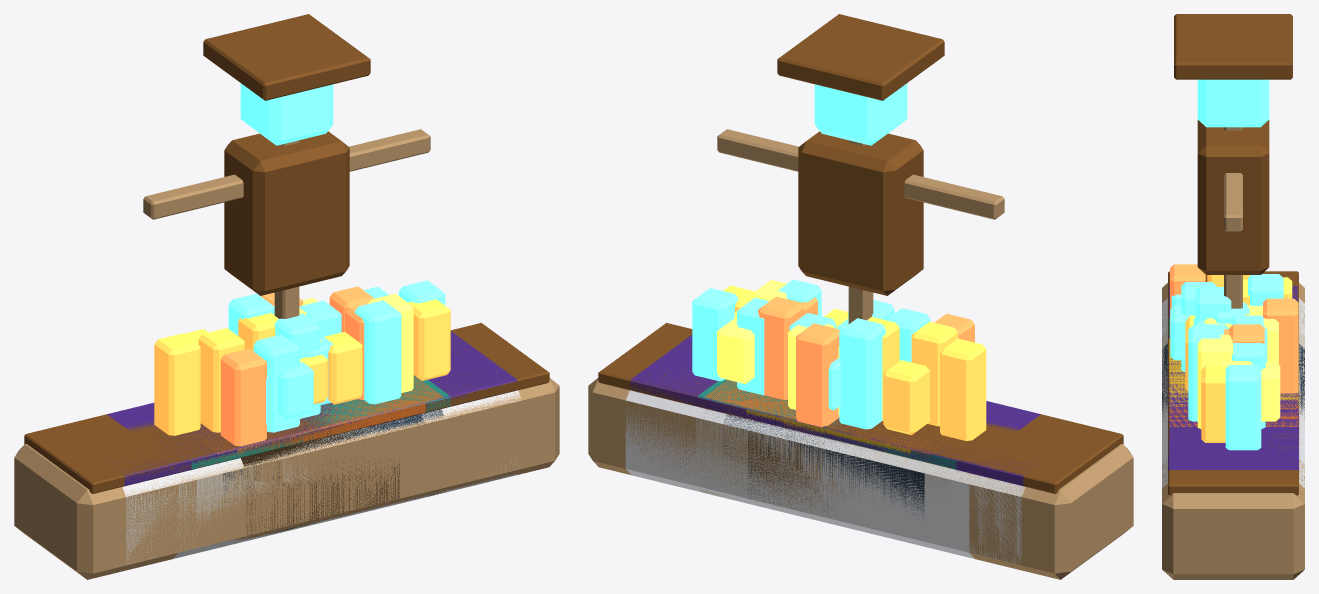
The model's file is flagship_props_017.glb.
3 views of the same model, side by side, from view 1: azimuth 30°, elevation 25°; view 2: azimuth 150°, elevation 25°; view 3: azimuth 270°, elevation 25° (orthographic). The views are drawn at different scales.
Parts seen in each view (by area): view 1: Prop_BBIsle_Planter_17, Prop_BBIsle_Scarecrow_00, Prop_BBIsle_Planter_13, Prop_BBIsle_Planter_18, Prop_BBIsle_Planter_15, Prop_BBIsle_Planter_19, Prop_BBIsle_Planter_16, Prop_BBIsle_Planter_14; view 2: Prop_BBIsle_Planter_17, Prop_BBIsle_Scarecrow_00, Prop_BBIsle_Planter_18, Prop_BBIsle_Planter_13, Prop_BBIsle_Planter_16, Prop_BBIsle_Planter_15, Prop_BBIsle_Planter_14, Prop_BBIsle_Planter_19; view 3: Prop_BBIsle_Scarecrow_00, Prop_BBIsle_Planter_17, Prop_BBIsle_Planter_13, Prop_BBIsle_Planter_15, Prop_BBIsle_Planter_16, Prop_BBIsle_Planter_14, Prop_BBIsle_Planter_19, Prop_BBIsle_Planter_18.
Boxes of the visible parts, x1=… form: Prop_BBIsle_Planter_17: x1=14, y1=280, x2=559, y2=579; Prop_BBIsle_Scarecrow_00: x1=143, y1=14, x2=430, y2=318; Prop_BBIsle_Planter_13: x1=111, y1=299, x2=520, y2=571; Prop_BBIsle_Planter_18: x1=107, y1=313, x2=467, y2=558; Prop_BBIsle_Planter_15: x1=220, y1=286, x2=399, y2=535; Prop_BBIsle_Planter_19: x1=198, y1=300, x2=444, y2=501; Prop_BBIsle_Planter_16: x1=191, y1=293, x2=450, y2=528; Prop_BBIsle_Planter_14: x1=189, y1=286, x2=425, y2=502; Prop_BBIsle_Planter_17: x1=588, y1=288, x2=1133, y2=579; Prop_BBIsle_Scarecrow_00: x1=717, y1=14, x2=1004, y2=323; Prop_BBIsle_Planter_18: x1=680, y1=309, x2=1040, y2=558; Prop_BBIsle_Planter_13: x1=625, y1=285, x2=1037, y2=564; Prop_BBIsle_Planter_16: x1=696, y1=279, x2=956, y2=517; Prop_BBIsle_Planter_15: x1=746, y1=296, x2=974, y2=503; Prop_BBIsle_Planter_14: x1=723, y1=297, x2=938, y2=515; Prop_BBIsle_Planter_19: x1=704, y1=279, x2=950, y2=478; Prop_BBIsle_Scarecrow_00: x1=1174, y1=14, x2=1292, y2=308; Prop_BBIsle_Planter_17: x1=1162, y1=271, x2=1304, y2=579; Prop_BBIsle_Planter_13: x1=1162, y1=279, x2=1304, y2=488; Prop_BBIsle_Planter_15: x1=1168, y1=264, x2=1301, y2=412; Prop_BBIsle_Planter_16: x1=1162, y1=305, x2=1304, y2=428; Prop_BBIsle_Planter_14: x1=1162, y1=282, x2=1304, y2=428; Prop_BBIsle_Planter_19: x1=1167, y1=287, x2=1299, y2=421; Prop_BBIsle_Planter_18: x1=1162, y1=275, x2=1304, y2=463.
Bounding box in the file's own units: 2.24 × 2.01 × 0.6.
